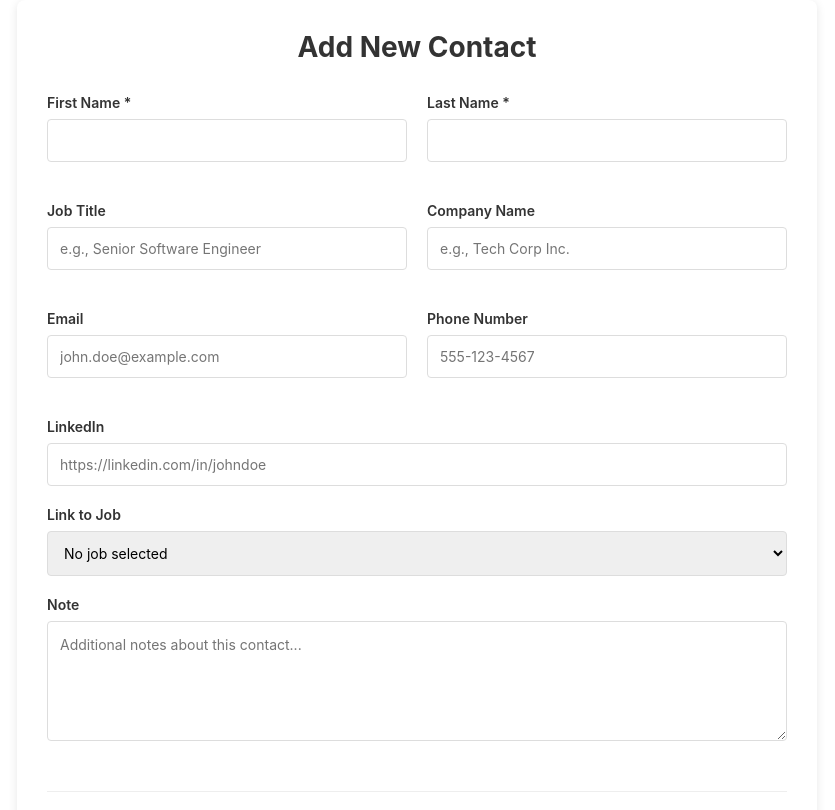
Test: ContactForm Component › Form Submission - Add Mode › disables buttons during submission
The width and height of the screenshot is (835, 810).
Type "John" into the field labelled "First Name *".
click(227, 140); type("John")  # box [47,119,407,162]
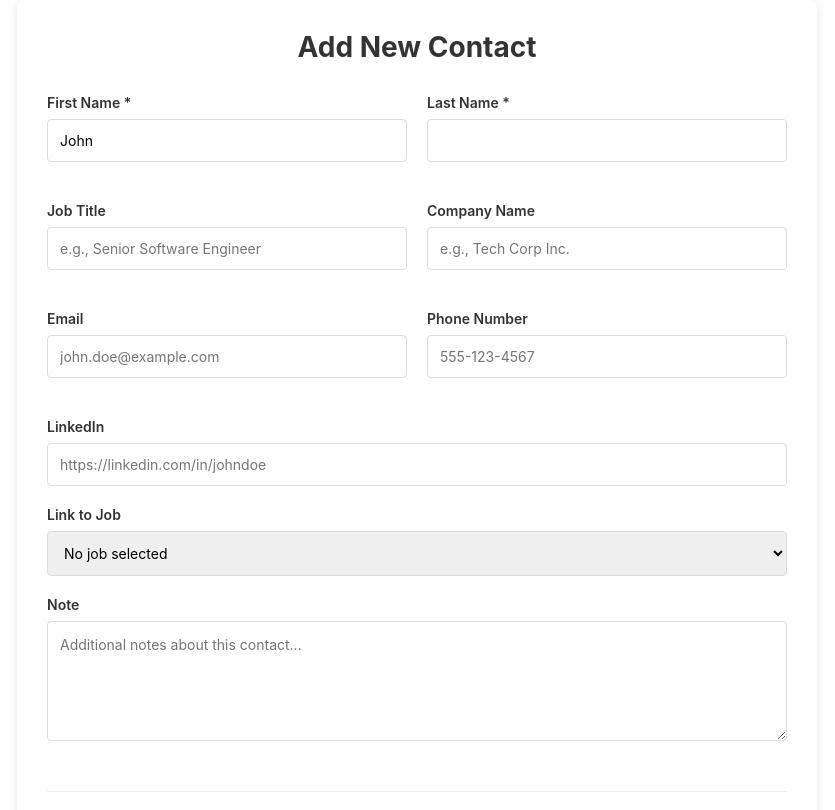
Type "Doe" into the field labelled "Last Name *".
click(607, 140); type("Doe")  # box [427,119,787,162]
(page scrolled)
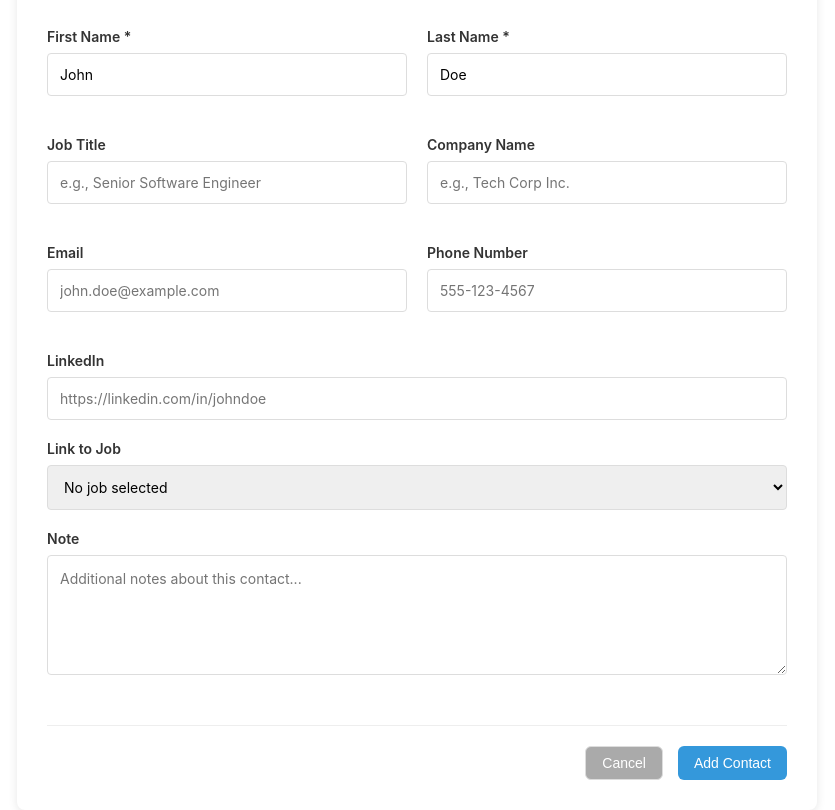
Click the button "Add Contact".
click(732, 763)  # box [678,746,787,780]
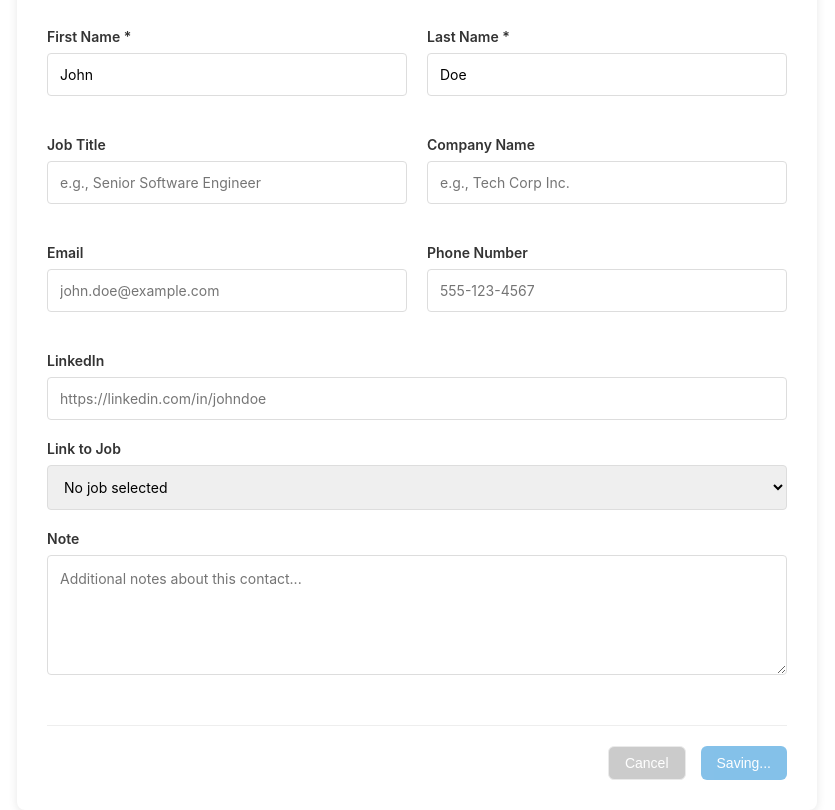
Result: the button "Saving..." is disabled at [700,746,787,780]
Result: the button "Cancel" is disabled at [608,746,686,780]
